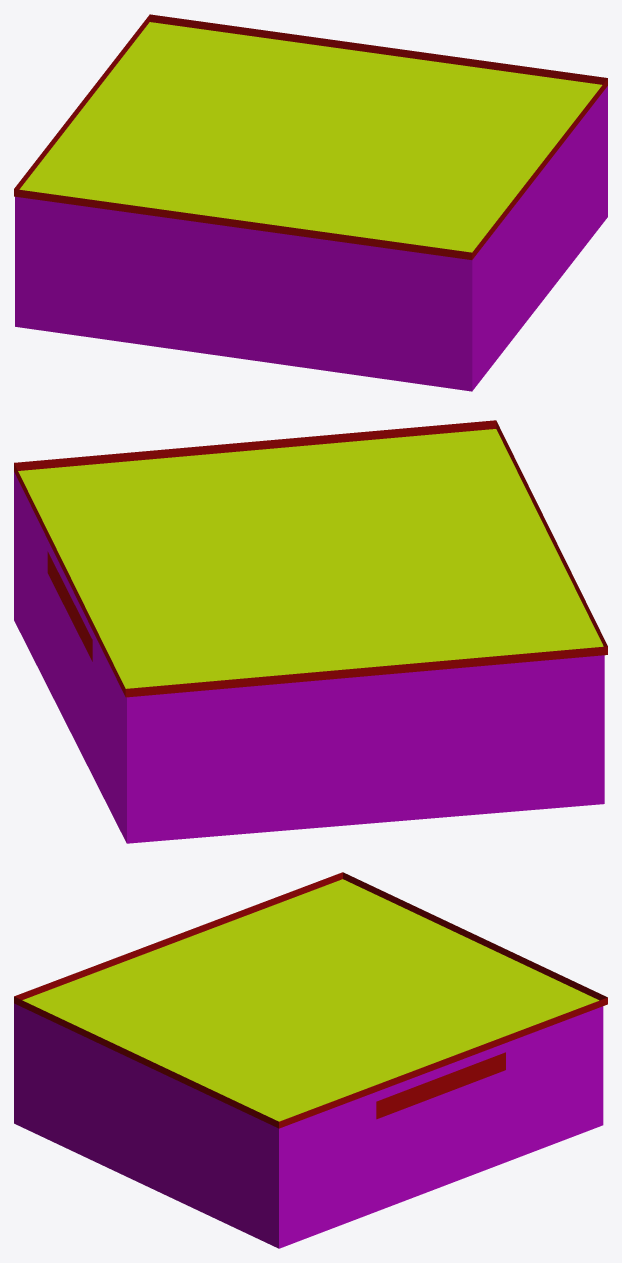
Rendered from rmc_150.glb.
The picture shows the model from 3 angles, top to bottom: view 1: azimuth 30°, elevation 25°; view 2: azimuth 150°, elevation 25°; view 3: azimuth 270°, elevation 25°; orthographic projection. The views are drawn at different scales.
Parts seen in each view (by area): view 1: rmc_150; view 2: rmc_150; view 3: rmc_150.
Part boxes in pixels (<box>): rmc_150: <box>14,14,607,391</box>; rmc_150: <box>14,420,607,843</box>; rmc_150: <box>14,872,607,1248</box>.
Bounding box in the file's own units: 26.99 × 6.41 × 27.15.
